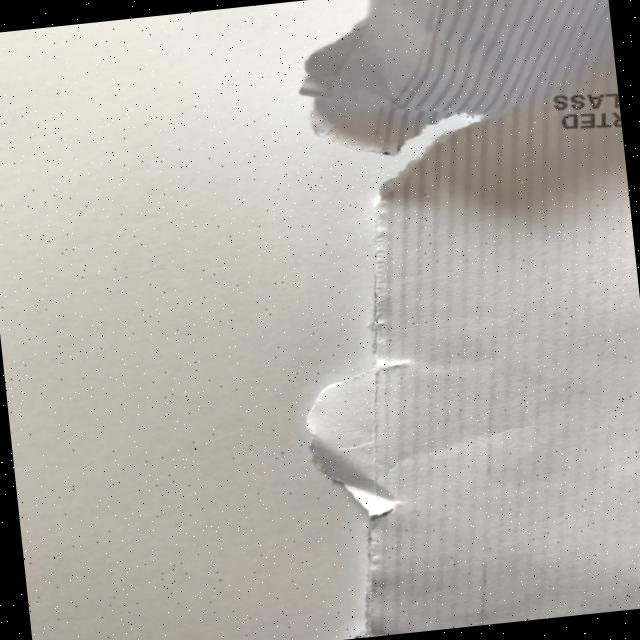paper: (0, 0, 640, 640), (289, 0, 621, 165)
